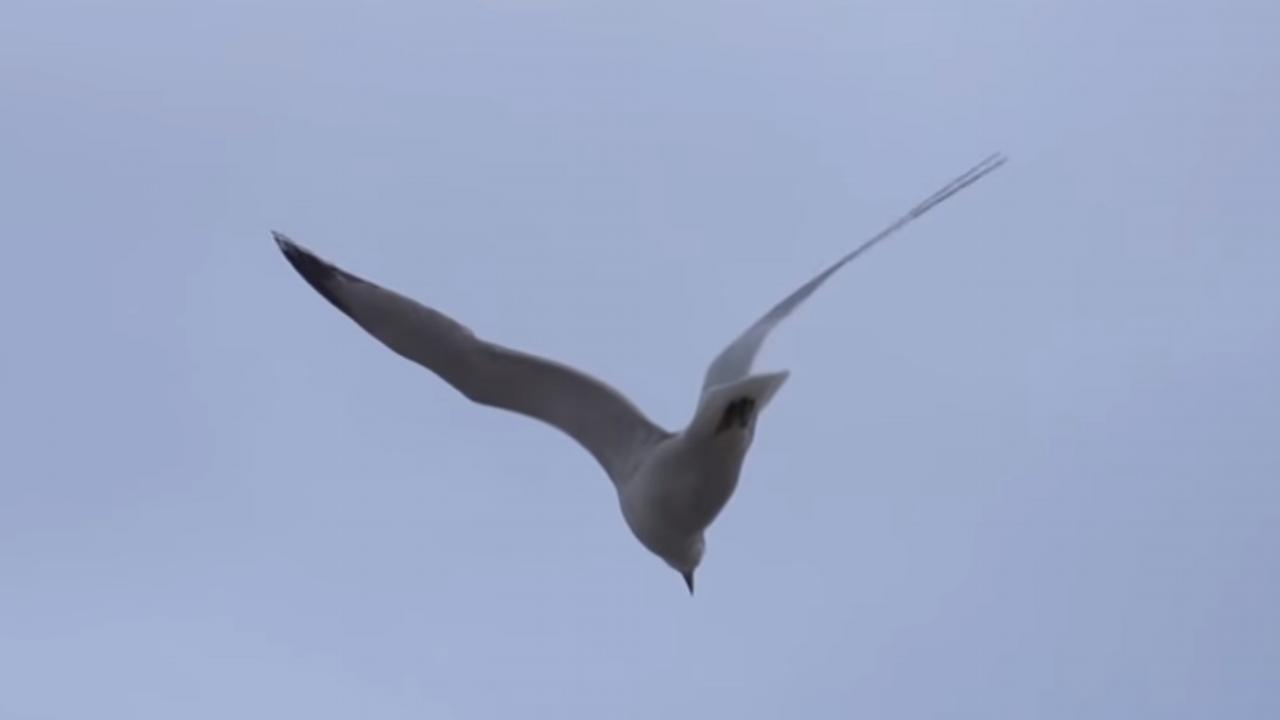Bird: (265, 147, 1029, 606)
